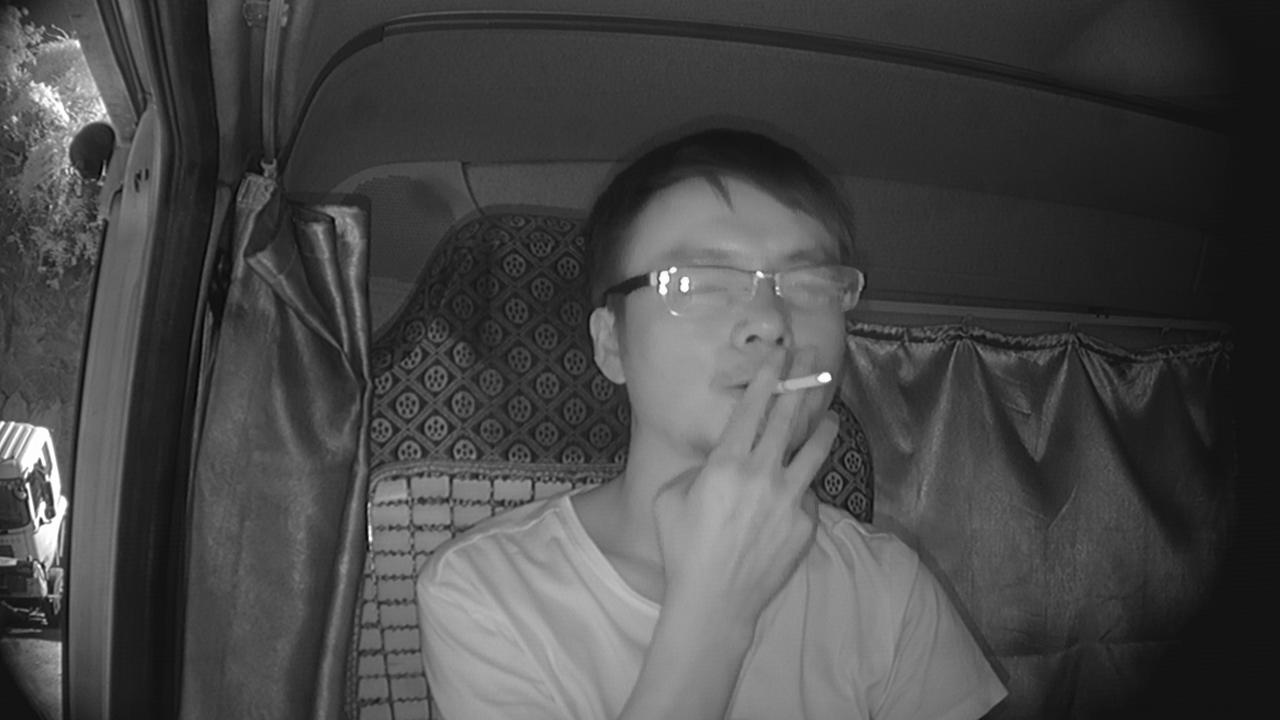hand: (684, 347, 847, 542)
